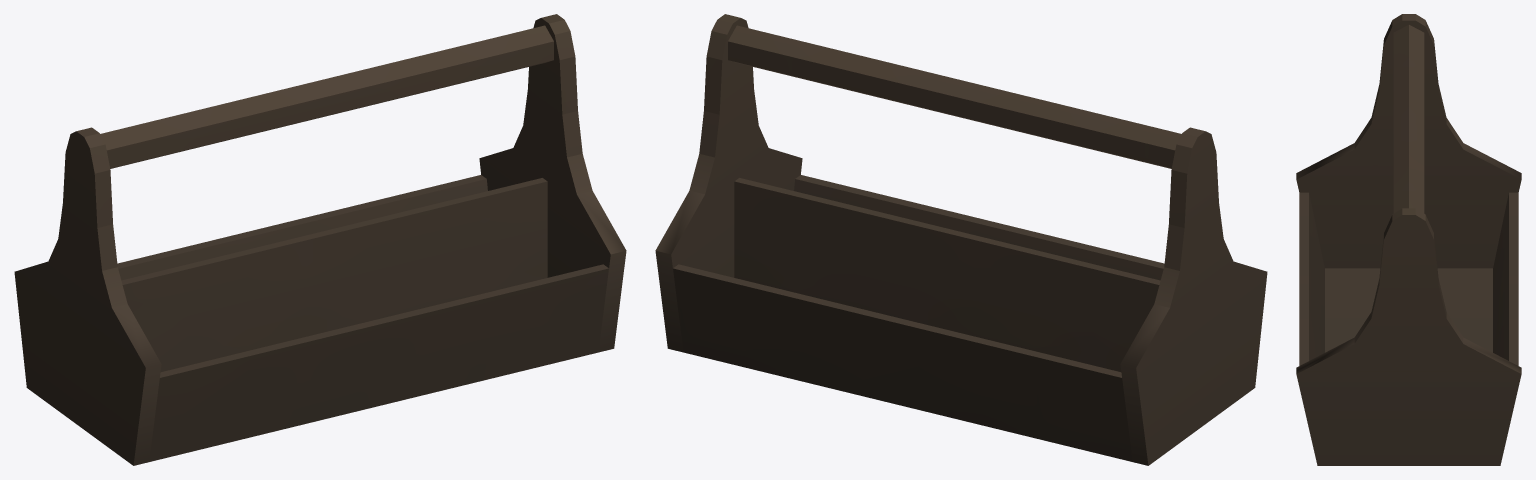
File: Condiments_Holder.fbx
The picture shows the model from 3 angles, left to right: view 1: azimuth 30°, elevation 25°; view 2: azimuth 150°, elevation 25°; view 3: azimuth 270°, elevation 25°; orthographic projection. The views are drawn at different scales.
Parts seen in each view (by area): view 1: Condiments_Holder; view 2: Condiments_Holder; view 3: Condiments_Holder.
Boxes of the visible parts, x1,y1,x2,y2 form: Condiments_Holder: [14, 14, 626, 465]; Condiments_Holder: [655, 14, 1267, 465]; Condiments_Holder: [1296, 14, 1521, 465].
Bounding box in the file's own units: 41.35 × 24.07 × 19.58.
